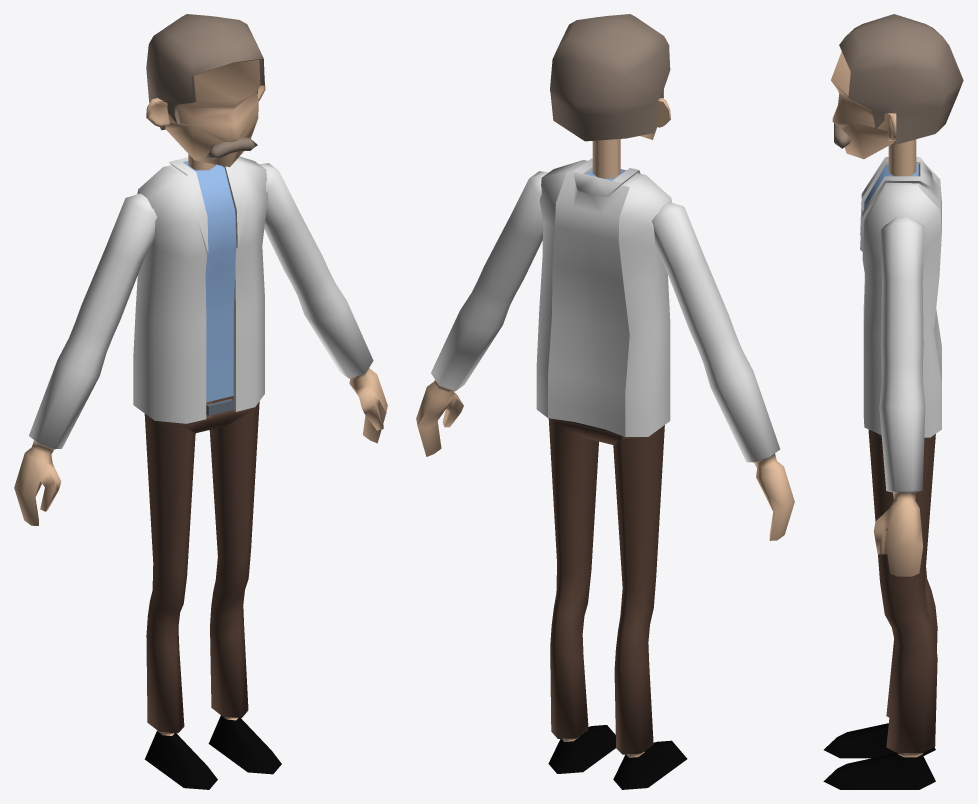
File: scientist.glb
3 renders of one model, left to right at view 1: azimuth 30°, elevation 25°; view 2: azimuth 150°, elevation 25°; view 3: azimuth 270°, elevation 25°, orthographic.
Visible parts, largest first — view 1: Body.001, Head.002; view 2: Body.001, Head.002; view 3: Body.001, Head.002, Cube.005.
Part boxes in pixels (x1=…): Body.001: x1=14, y1=156, x2=387, y2=789; Head.002: x1=146, y1=14, x2=265, y2=170; Body.001: x1=416, y1=158, x2=794, y2=789; Head.002: x1=550, y1=14, x2=670, y2=178; Body.001: x1=823, y1=157, x2=941, y2=789; Head.002: x1=831, y1=14, x2=963, y2=176; Cube.005: x1=834, y1=123, x2=850, y2=148.
Size of the model in its own units: 0.8395 by 1.62 by 0.277.
